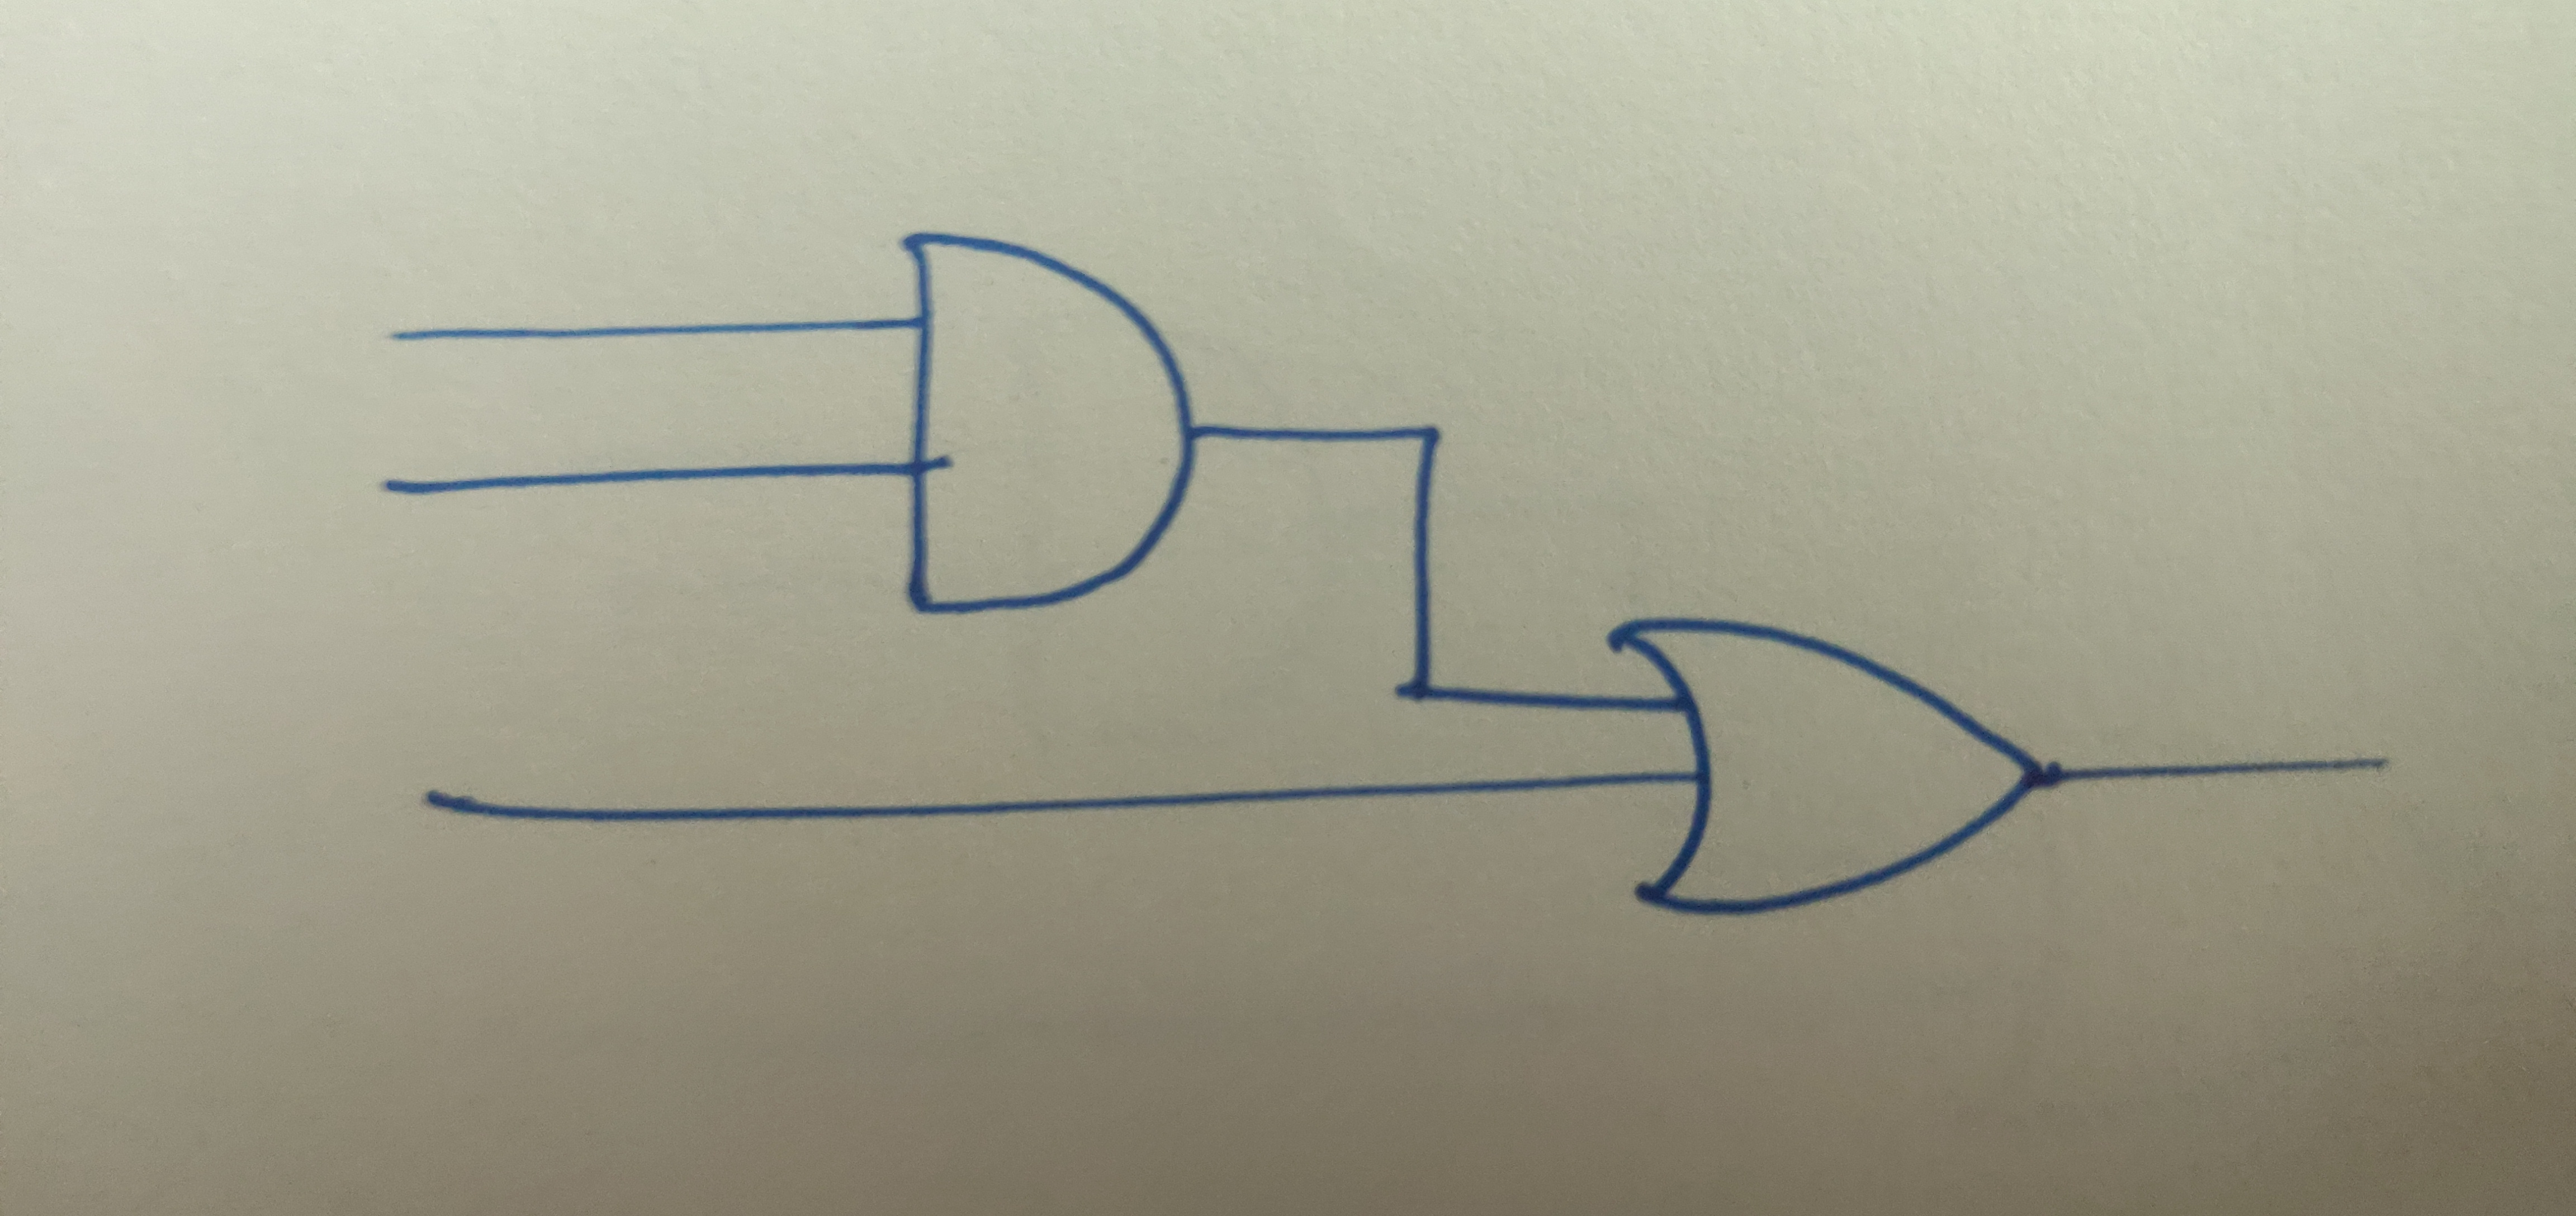and: (894, 223, 1209, 631)
or: (1600, 611, 2067, 924)
